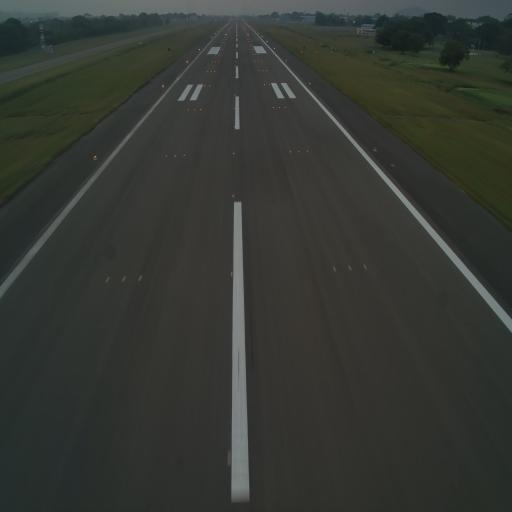off: (372, 146, 377, 154)
on: (102, 274, 110, 286), (120, 272, 128, 284), (137, 272, 144, 284), (347, 262, 354, 274), (332, 262, 338, 274), (363, 263, 369, 273), (230, 268, 234, 280), (93, 153, 98, 161), (164, 153, 169, 160), (173, 153, 177, 160), (231, 193, 235, 199), (289, 148, 292, 154), (298, 148, 301, 154), (233, 123, 236, 129), (182, 154, 186, 158), (232, 152, 236, 156), (306, 148, 308, 154)
